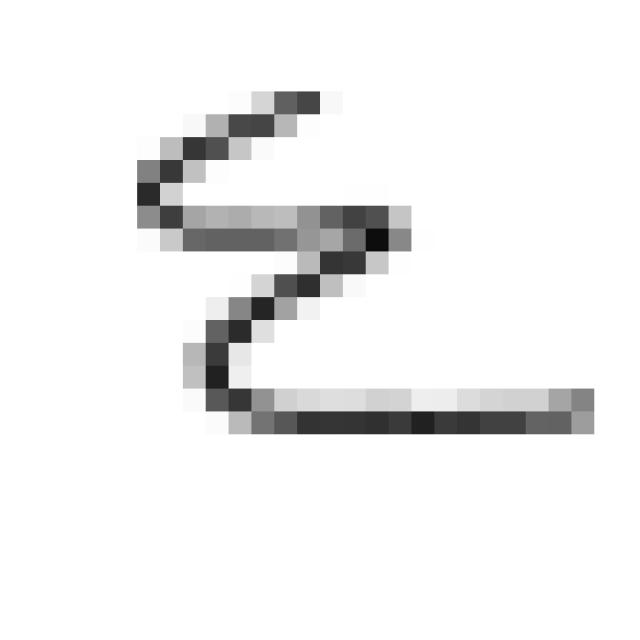4 -four-: (116, 61, 615, 454)
